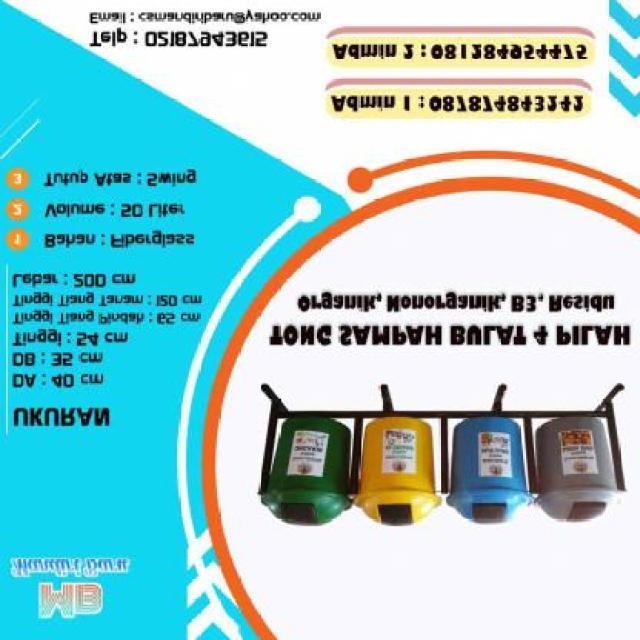garbage container: (352, 410, 446, 536), (445, 411, 538, 534), (532, 413, 625, 535), (259, 413, 356, 529)
